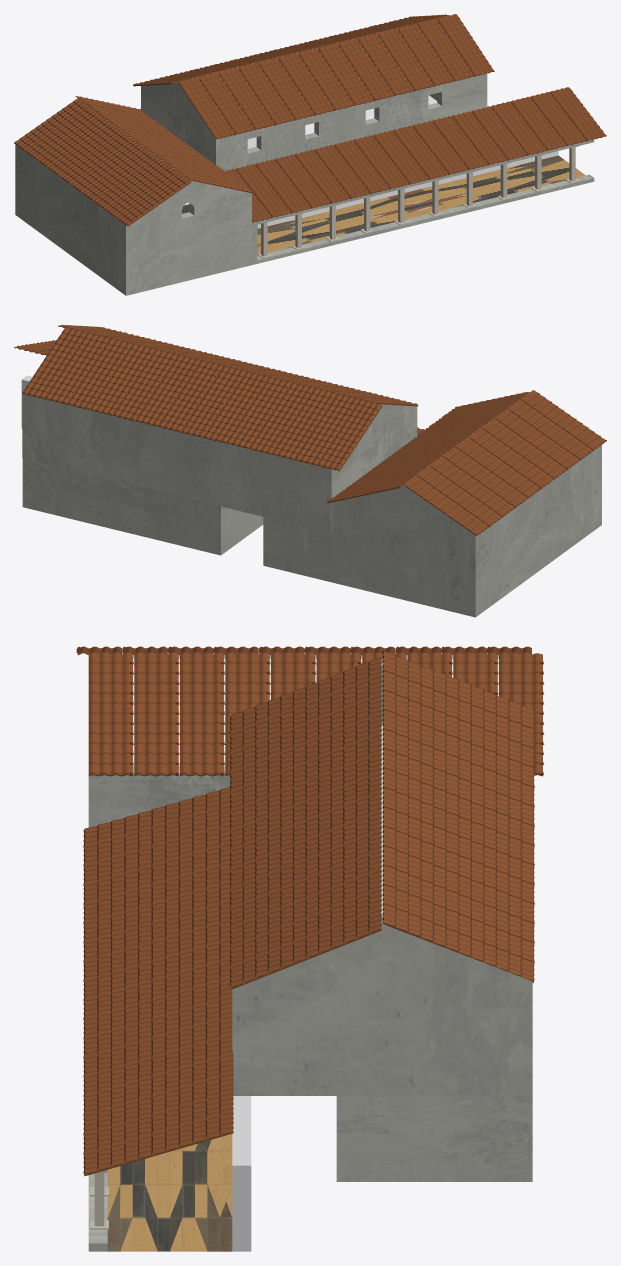
The model's file is villa_darro.glb.
3 views of the same model, one above another, from view 1: azimuth 30°, elevation 25°; view 2: azimuth 150°, elevation 25°; view 3: azimuth 270°, elevation 25° (orthographic). The views are drawn at different scales.
Visible parts, largest first — view 1: teulada2.002, teulada2.001, Room, wall.001, teulada2.004, Floor, teulada2.005, wall1, teulada2.003, Column.007, Plano; view 2: teulada2.003, Room, wall.001, teulada2.004, habitacio, teulada2.005, wall, teulada2.001; view 3: teulada2.002, wall.001, teulada2.001, teulada2.003, teulada2.005, habitacio, Floor, Room, teulada2.004, wall2, wall1, Ceiling.
Boxes of the visible parts, box(x1,y1,x2,y2) form: teulada2.002: box(225, 87, 606, 222); teulada2.001: box(178, 14, 494, 139); Room: box(15, 99, 251, 295); wall.001: box(141, 16, 487, 171); teulada2.004: box(14, 98, 191, 226); Floor: box(257, 155, 585, 255); teulada2.005: box(75, 96, 253, 193); wall1: box(252, 139, 594, 264); teulada2.003: box(133, 14, 448, 86); Column.007: box(261, 147, 575, 256); Plano: box(257, 151, 558, 228); teulada2.003: box(22, 327, 382, 471); Room: box(332, 398, 601, 617); wall.001: box(22, 394, 417, 533); teulada2.004: box(404, 390, 606, 536); habitacio: box(22, 458, 263, 555); teulada2.005: box(326, 392, 529, 503); wall: box(263, 517, 331, 582); teulada2.001: box(58, 324, 418, 406); teulada2.002: box(83, 787, 233, 1176); wall.001: box(232, 659, 532, 1095); teulada2.001: box(229, 657, 381, 989); teulada2.003: box(382, 651, 534, 982); teulada2.005: box(88, 653, 544, 776); habitacio: box(336, 1096, 532, 1181); Floor: box(107, 1134, 232, 1251); Room: box(88, 651, 498, 827); teulada2.004: box(76, 646, 531, 655); wall2: box(232, 1096, 251, 1251); wall1: box(88, 1170, 107, 1251); Ceiling: box(133, 659, 498, 765).
Bounding box in the file's own units: 35.17 × 9.11 × 14.8.
7 materials, 3 textured.
